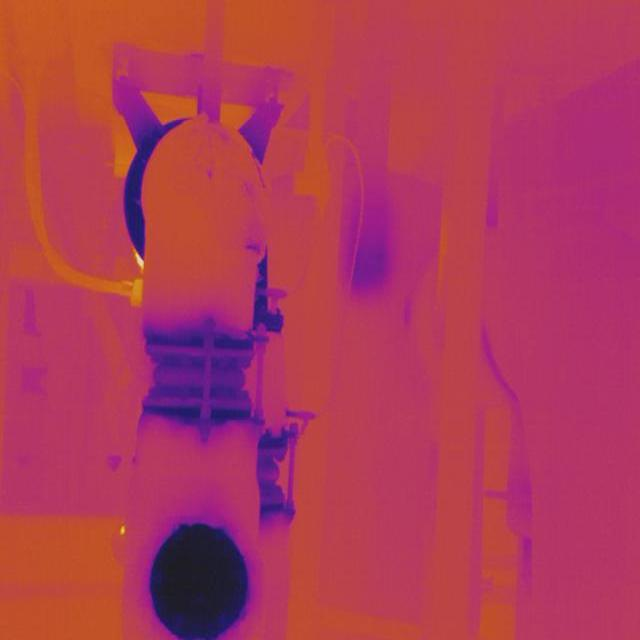leakage: (243, 233, 266, 258)
